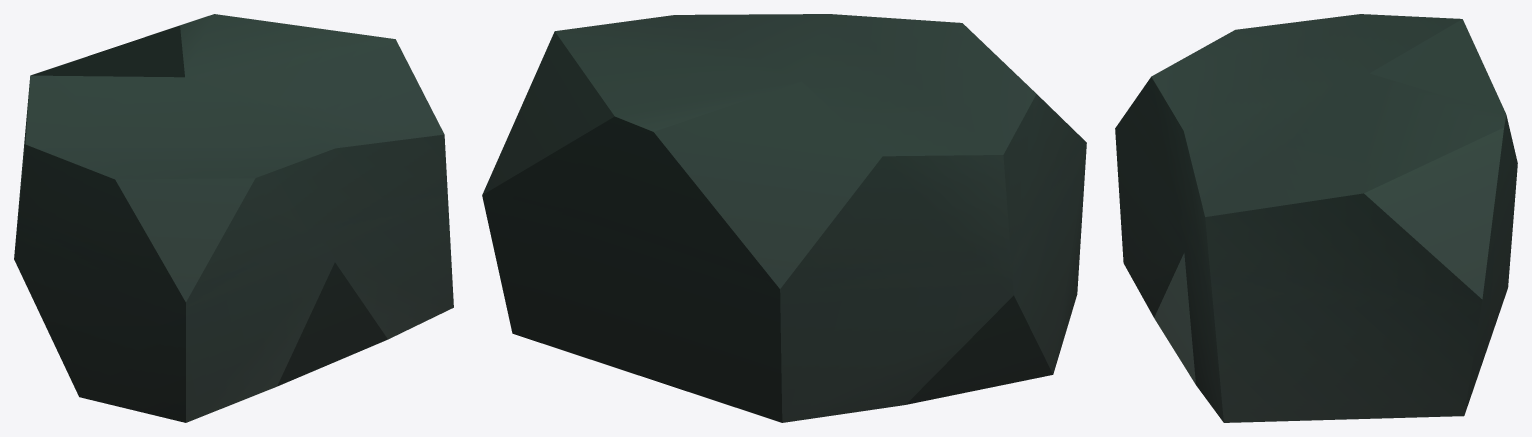
File: SM_Cliff_03.fbx
3 renders of one model, left to right at view 1: azimuth 30°, elevation 25°; view 2: azimuth 150°, elevation 25°; view 3: azimuth 270°, elevation 25°, orthographic. The views are drawn at different scales.
Visible parts, largest first — view 1: SM_Cliff_03; view 2: SM_Cliff_03; view 3: SM_Cliff_03.
Boxes of the visible parts, left/top/right/bottom form: SM_Cliff_03: left=14, top=14, right=453, bottom=422; SM_Cliff_03: left=482, top=14, right=1086, bottom=422; SM_Cliff_03: left=1115, top=14, right=1517, bottom=422.
Bounding box in the file's own units: 584 × 356 × 493.
1 material, 1 textured.
